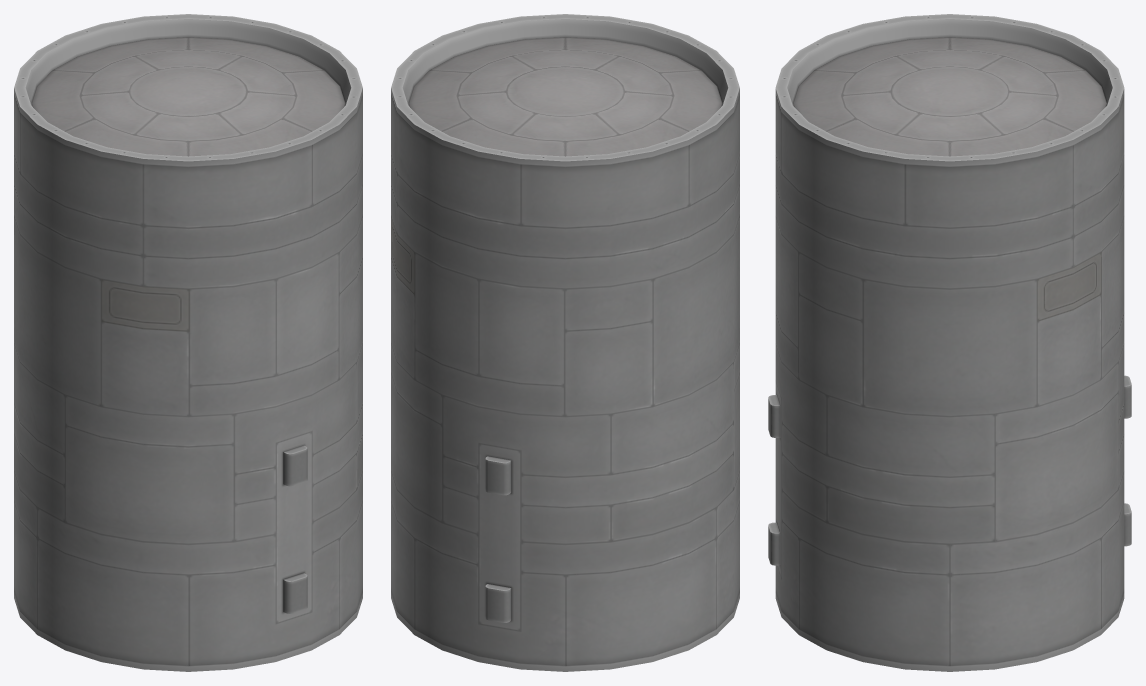
File: LLV_G_LFO_1.obj
3 views of the same model, side by side, from view 1: azimuth 30°, elevation 25°; view 2: azimuth 150°, elevation 25°; view 3: azimuth 270°, elevation 25° (orthographic).
Visible parts, largest first — view 1: LLV_G_LFO_1; view 2: LLV_G_LFO_1; view 3: LLV_G_LFO_1.
Part boxes in pixels (x1=…): LLV_G_LFO_1: x1=14, y1=14, x2=362, y2=671; LLV_G_LFO_1: x1=391, y1=14, x2=739, y2=671; LLV_G_LFO_1: x1=768, y1=14, x2=1131, y2=671.
Bounding box in the file's own units: 1.88 × 3.03 × 1.95.
